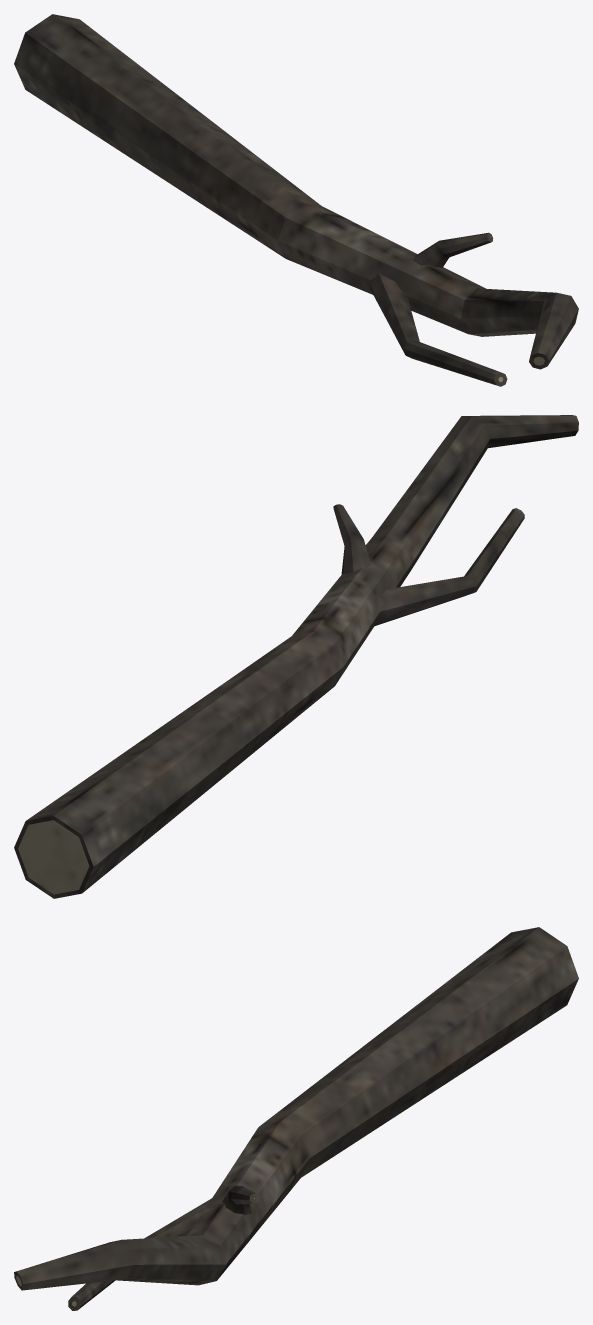
File: deadWood_003.fbx
3 views of the same model, one above another, from view 1: azimuth 30°, elevation 25°; view 2: azimuth 150°, elevation 25°; view 3: azimuth 330°, elevation 25° (orthographic). The views are drawn at different scales.
Visible parts, largest first — view 1: deadWood.003; view 2: deadWood.003; view 3: deadWood.003.
Part boxes in pixels (bbox=[...]): deadWood.003: bbox=[14, 14, 578, 386]; deadWood.003: bbox=[14, 415, 578, 898]; deadWood.003: bbox=[14, 927, 578, 1310].
Bounding box in the file's own units: 158 × 150 × 1105.
Materials: 2 (2 with a texture image).
